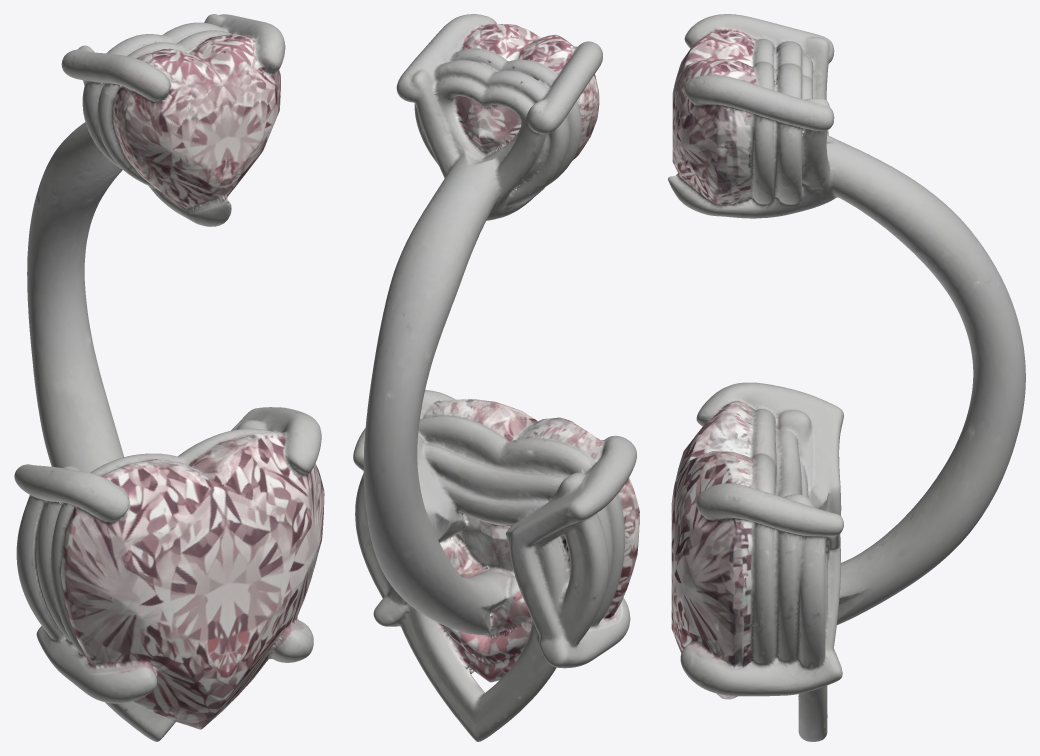
Rendered from navel_heart.glb.
3 views of the same model, side by side, from view 1: azimuth 30°, elevation 25°; view 2: azimuth 150°, elevation 25°; view 3: azimuth 270°, elevation 25° (orthographic). The views are drawn at different scales.
Visible parts, largest first — view 1: Mesh_0; view 2: Mesh_0; view 3: Mesh_0.
Part boxes in pixels (left/top/right/bottom): Mesh_0: left=14, top=14, right=324, bottom=741; Mesh_0: left=353, top=14, right=639, bottom=741; Mesh_0: left=668, top=14, right=1025, bottom=741.
Size of the model in its own units: 0.7394 by 1.91 by 0.8911.
1 material, 1 textured.
